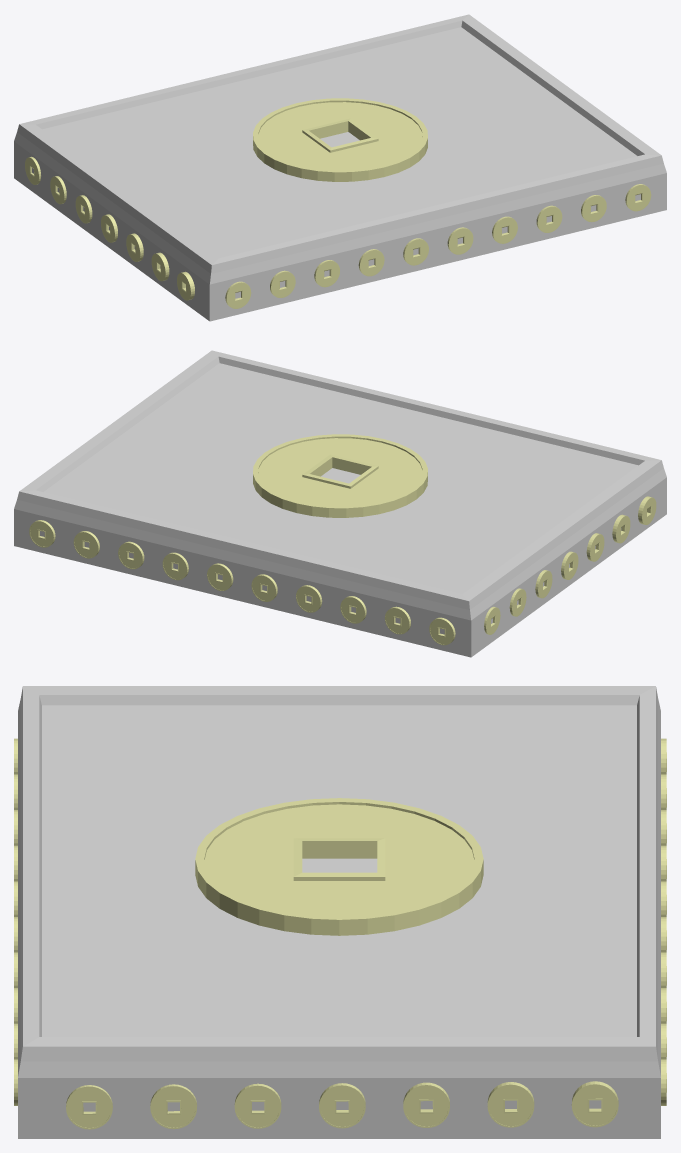
Rendered from avatar.fbx.
3 renders of one model, top to bottom at view 1: azimuth 30°, elevation 25°; view 2: azimuth 150°, elevation 25°; view 3: azimuth 270°, elevation 25°, orthographic. The views are drawn at different scales.
Visible parts, largest first — view 1: Cube.001, Cube, Cylinder, Cylinder.004, Cylinder.003; view 2: Cube.001, Cube, Cylinder, Cylinder.001, Cylinder.003; view 3: Cube.001, Cube, Cylinder, Cylinder.002, Cylinder.001, Cylinder.004.
Boxes of the visible parts, x1,y1,x2,y2 form: Cube.001: (42,27,637,258); Cube: (14,14,666,321); Cylinder: (253,98,427,181); Cylinder.004: (225,184,651,308); Cylinder.003: (25,156,194,300); Cube.001: (43,363,638,594); Cube: (14,350,666,657); Cylinder: (253,434,427,517); Cylinder.001: (29,520,455,645); Cylinder.003: (484,496,656,634); Cube.001: (42,705,636,1036); Cube: (18,686,660,1138); Cylinder: (195,798,483,935); Cylinder.002: (66,1081,618,1129); Cylinder.001: (661,738,666,1105); Cylinder.004: (14,738,17,1105).
Size of the model in its own units: 4499 by 552 by 3319.
